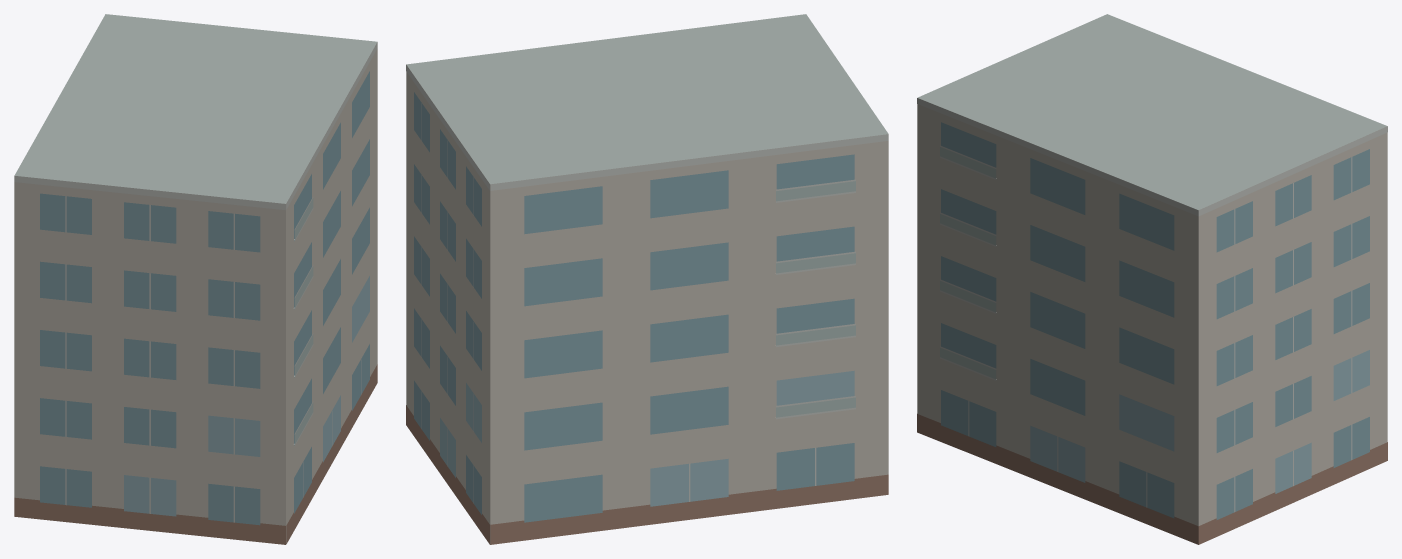
File: survey-upis-32881482.glb
The picture shows the model from 3 angles, left to right: view 1: azimuth 30°, elevation 25°; view 2: azimuth 150°, elevation 25°; view 3: azimuth 270°, elevation 25°; orthographic projection. The views are drawn at different scales.
Parts seen in each view (by area): view 1: survey-upis-32881482.tmp; view 2: survey-upis-32881482.tmp; view 3: survey-upis-32881482.tmp.
Boxes of the visible parts, x1,y1,x2,y2 form: survey-upis-32881482.tmp: [14, 14, 377, 544]; survey-upis-32881482.tmp: [406, 14, 888, 544]; survey-upis-32881482.tmp: [917, 14, 1387, 544].
Size of the model in its own units: 16.61 by 13.2 by 16.83.
